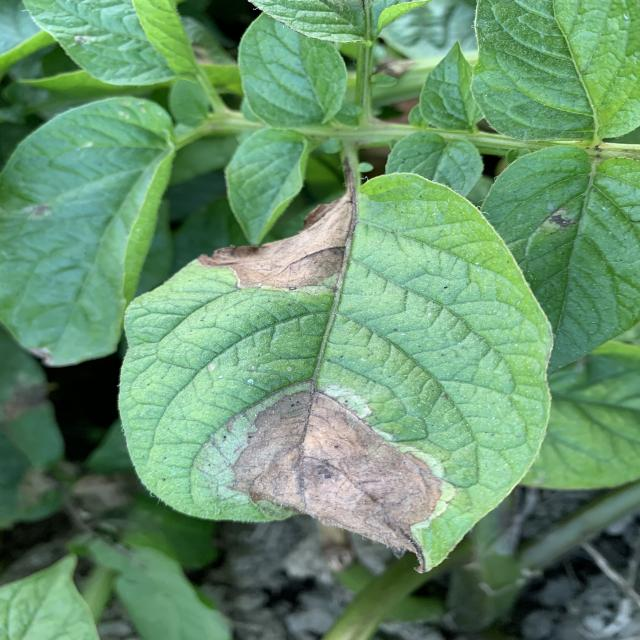lateblight: (232, 391, 442, 558), (198, 190, 353, 290)
